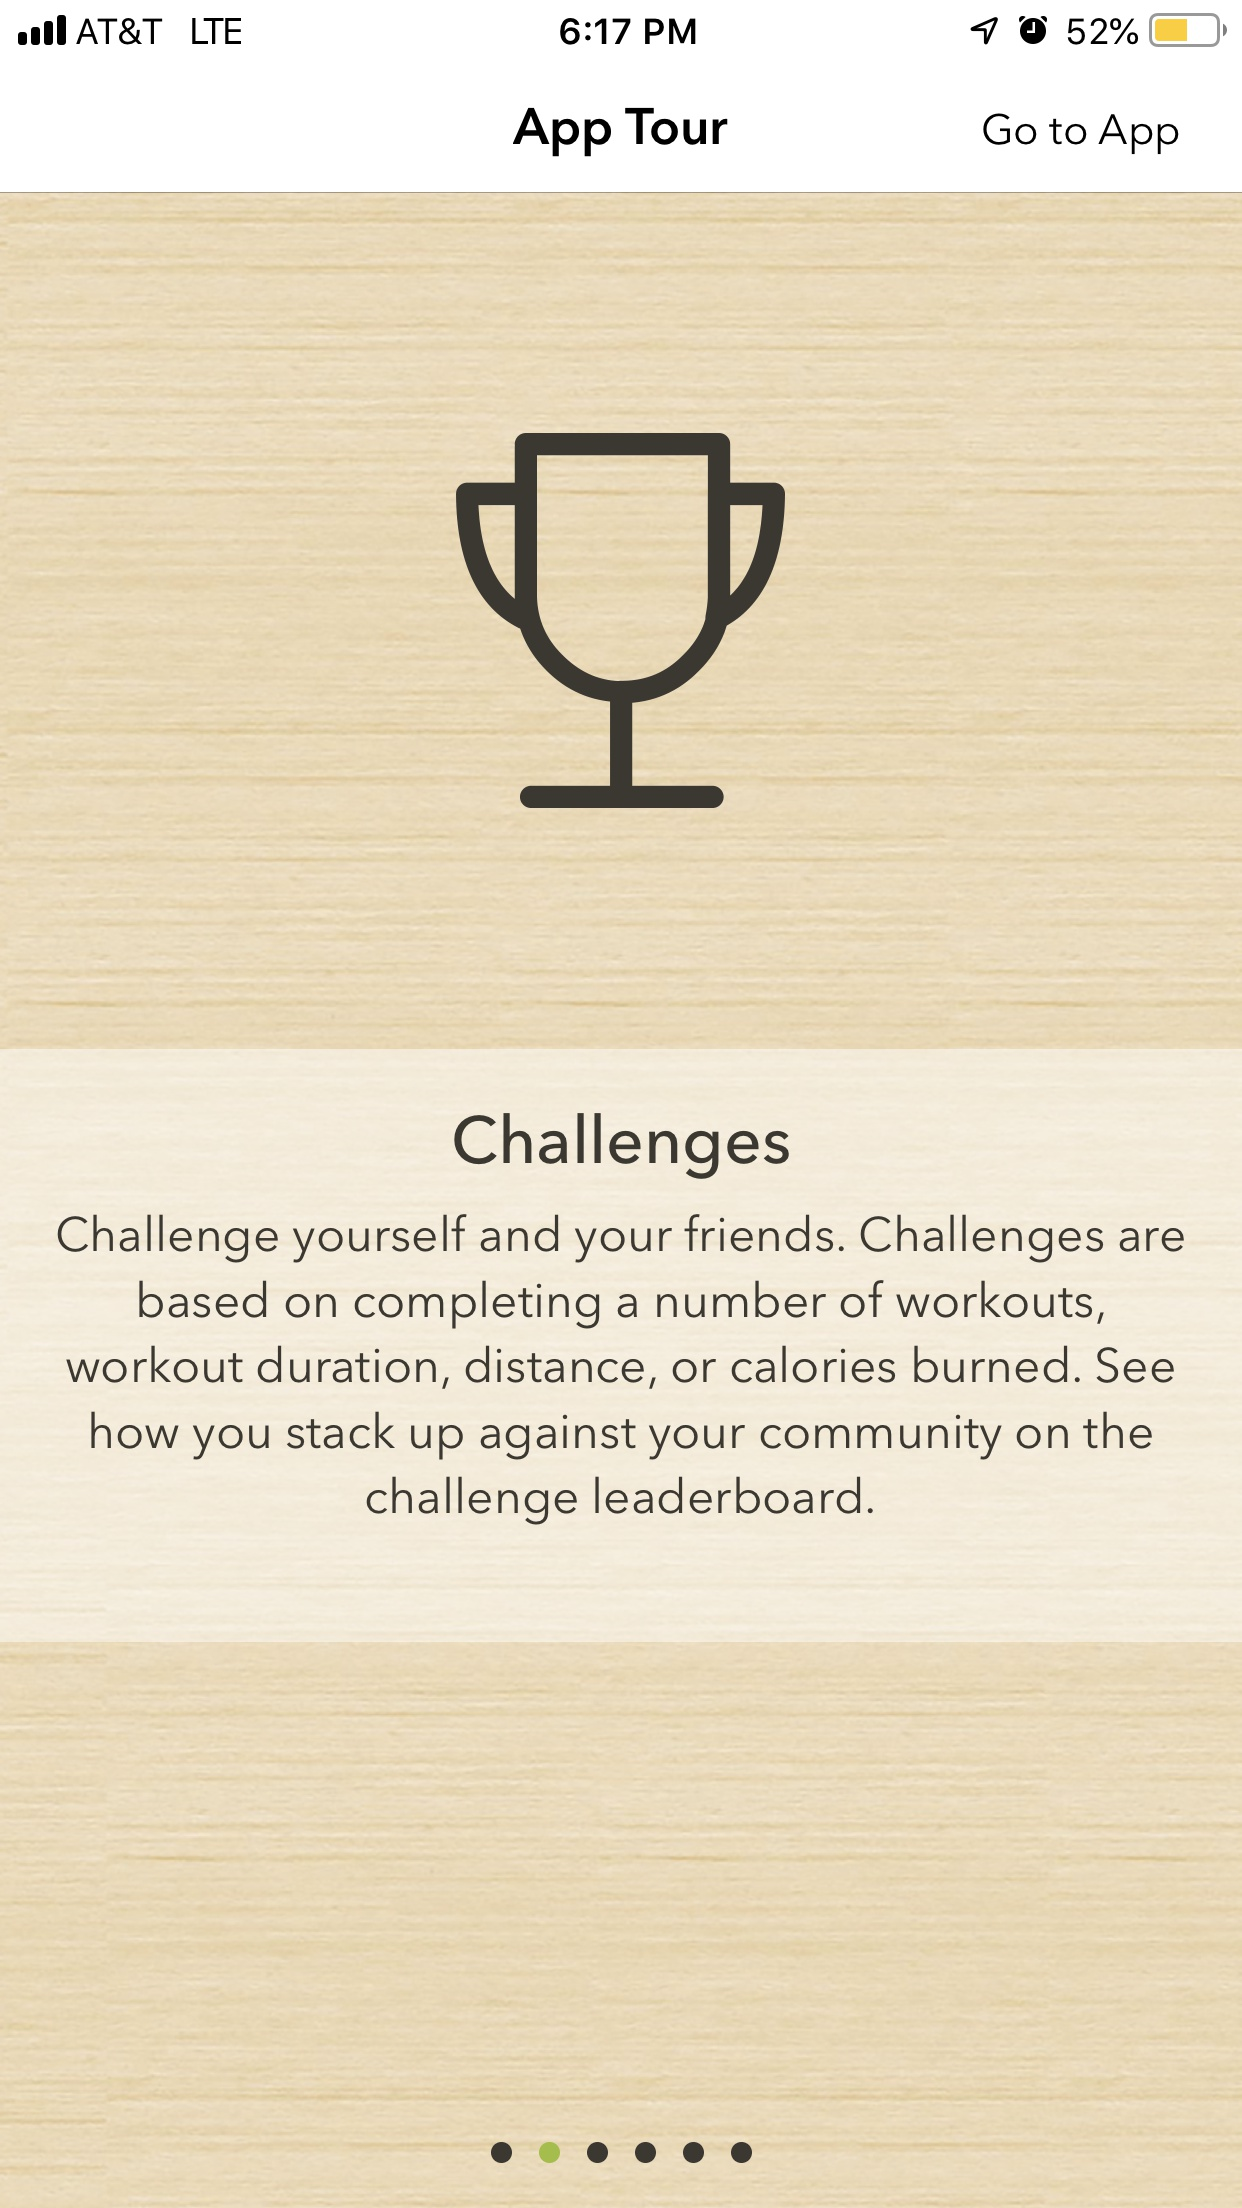Image: (455, 434, 787, 810)
PageIndicator: (490, 2141, 754, 2166)
Text: (58, 1215, 1184, 1527), (453, 1112, 792, 1180), (513, 108, 729, 158), (983, 114, 1178, 156)
UpperTaskBar: (2, 2, 1242, 49)
